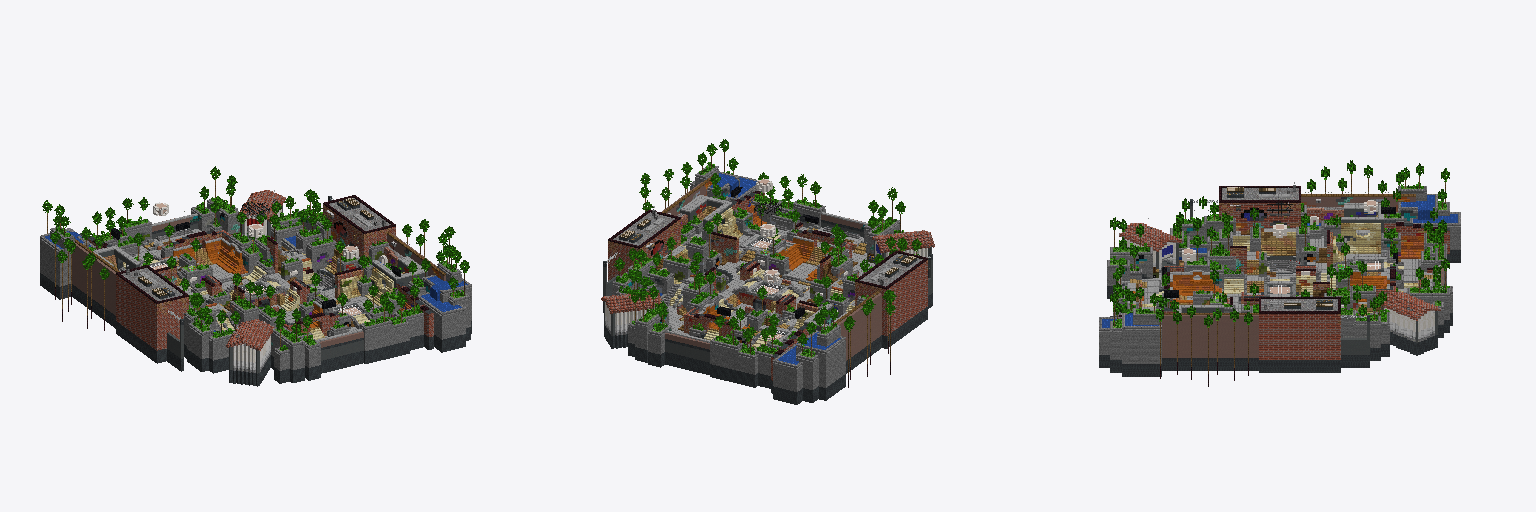
3 renders of one model, left to right at view 1: azimuth 30°, elevation 25°; view 2: azimuth 150°, elevation 25°; view 3: azimuth 270°, elevation 25°, orthographic.
Size of the model in its own units: 131 by 41.52 by 127.
99 materials, 98 textured.